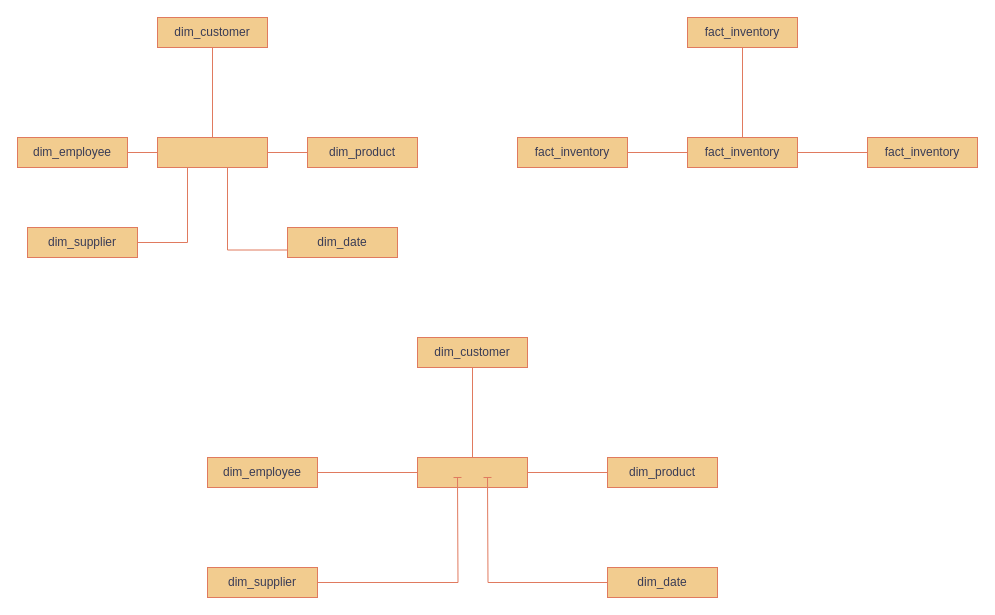
Image size: 995x615. Some labels were removed from this diagram. The centre of each missing label's shape, as x and y in pixels:
"fact_purchase_order" goes at pixel 472 472.
"fact_sales" goes at pixel 212 152.
